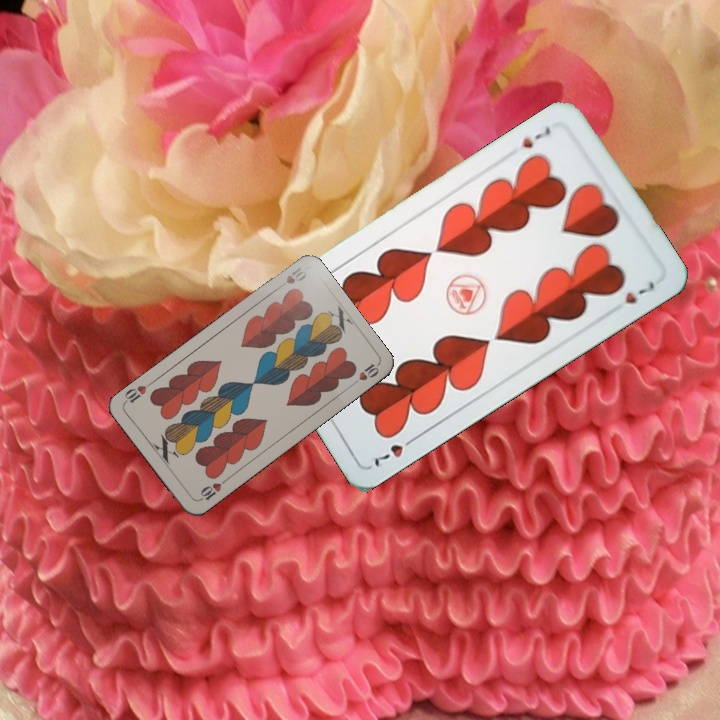H10: (272, 263, 309, 293), (195, 475, 230, 504)
H7: (370, 432, 420, 470), (518, 121, 553, 151)
